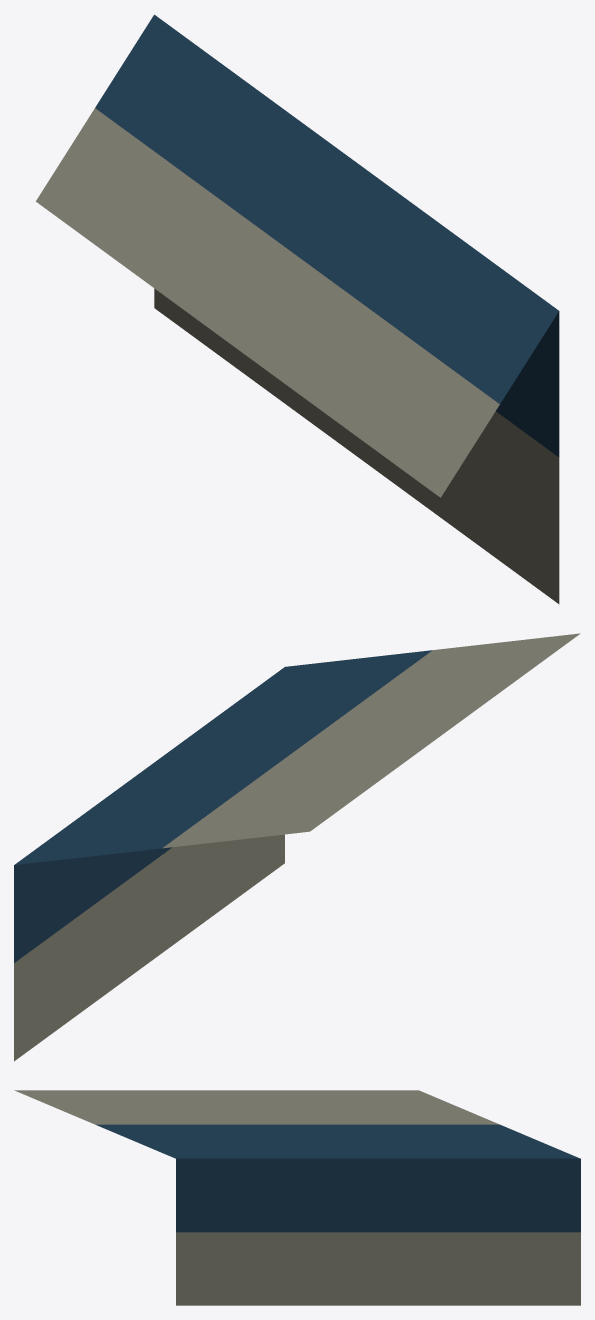
File: swimming pool edge2.FBX
3 renders of one model, top to bottom at view 1: azimuth 30°, elevation 25°; view 2: azimuth 150°, elevation 25°; view 3: azimuth 270°, elevation 25°, orthographic. The views are drawn at different scales.
Parts seen in each view (by area): view 1: swimming pool edge2; view 2: swimming pool edge2; view 3: swimming pool edge2.
Part boxes in pixels (left/top/right/bottom): swimming pool edge2: left=36, top=14, right=559, bottom=603; swimming pool edge2: left=14, top=633, right=580, bottom=1061; swimming pool edge2: left=14, top=1090, right=580, bottom=1305.
Bounding box in the file's own units: 4 × 4 × 14.
